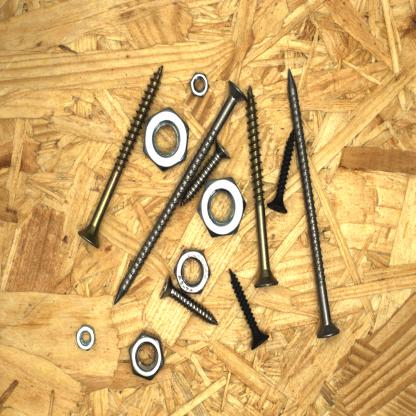screw: (110, 78, 251, 309), (75, 62, 165, 252), (286, 65, 343, 341), (243, 82, 281, 290), (180, 133, 233, 209), (227, 265, 272, 353), (155, 270, 222, 328), (263, 126, 297, 216)
